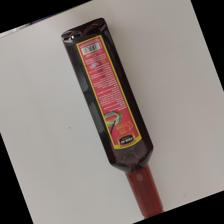Namngu: (59, 17, 169, 224)
